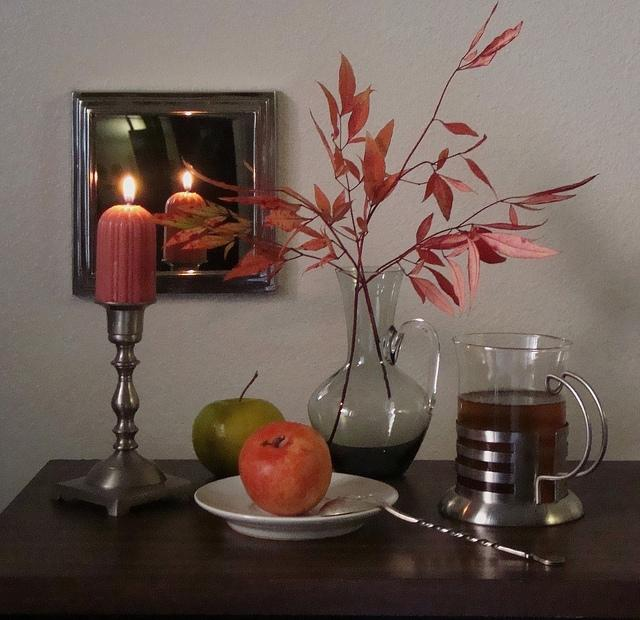apple: (192, 371, 286, 480), (238, 422, 332, 516)
